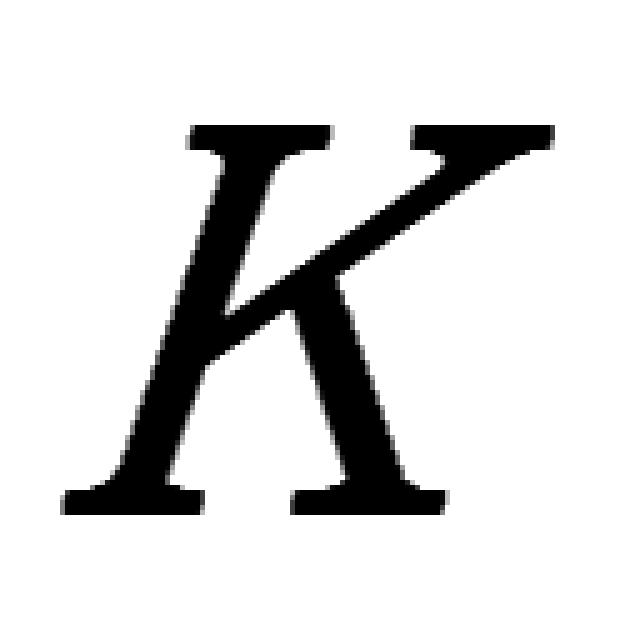K: (55, 110, 560, 520)
